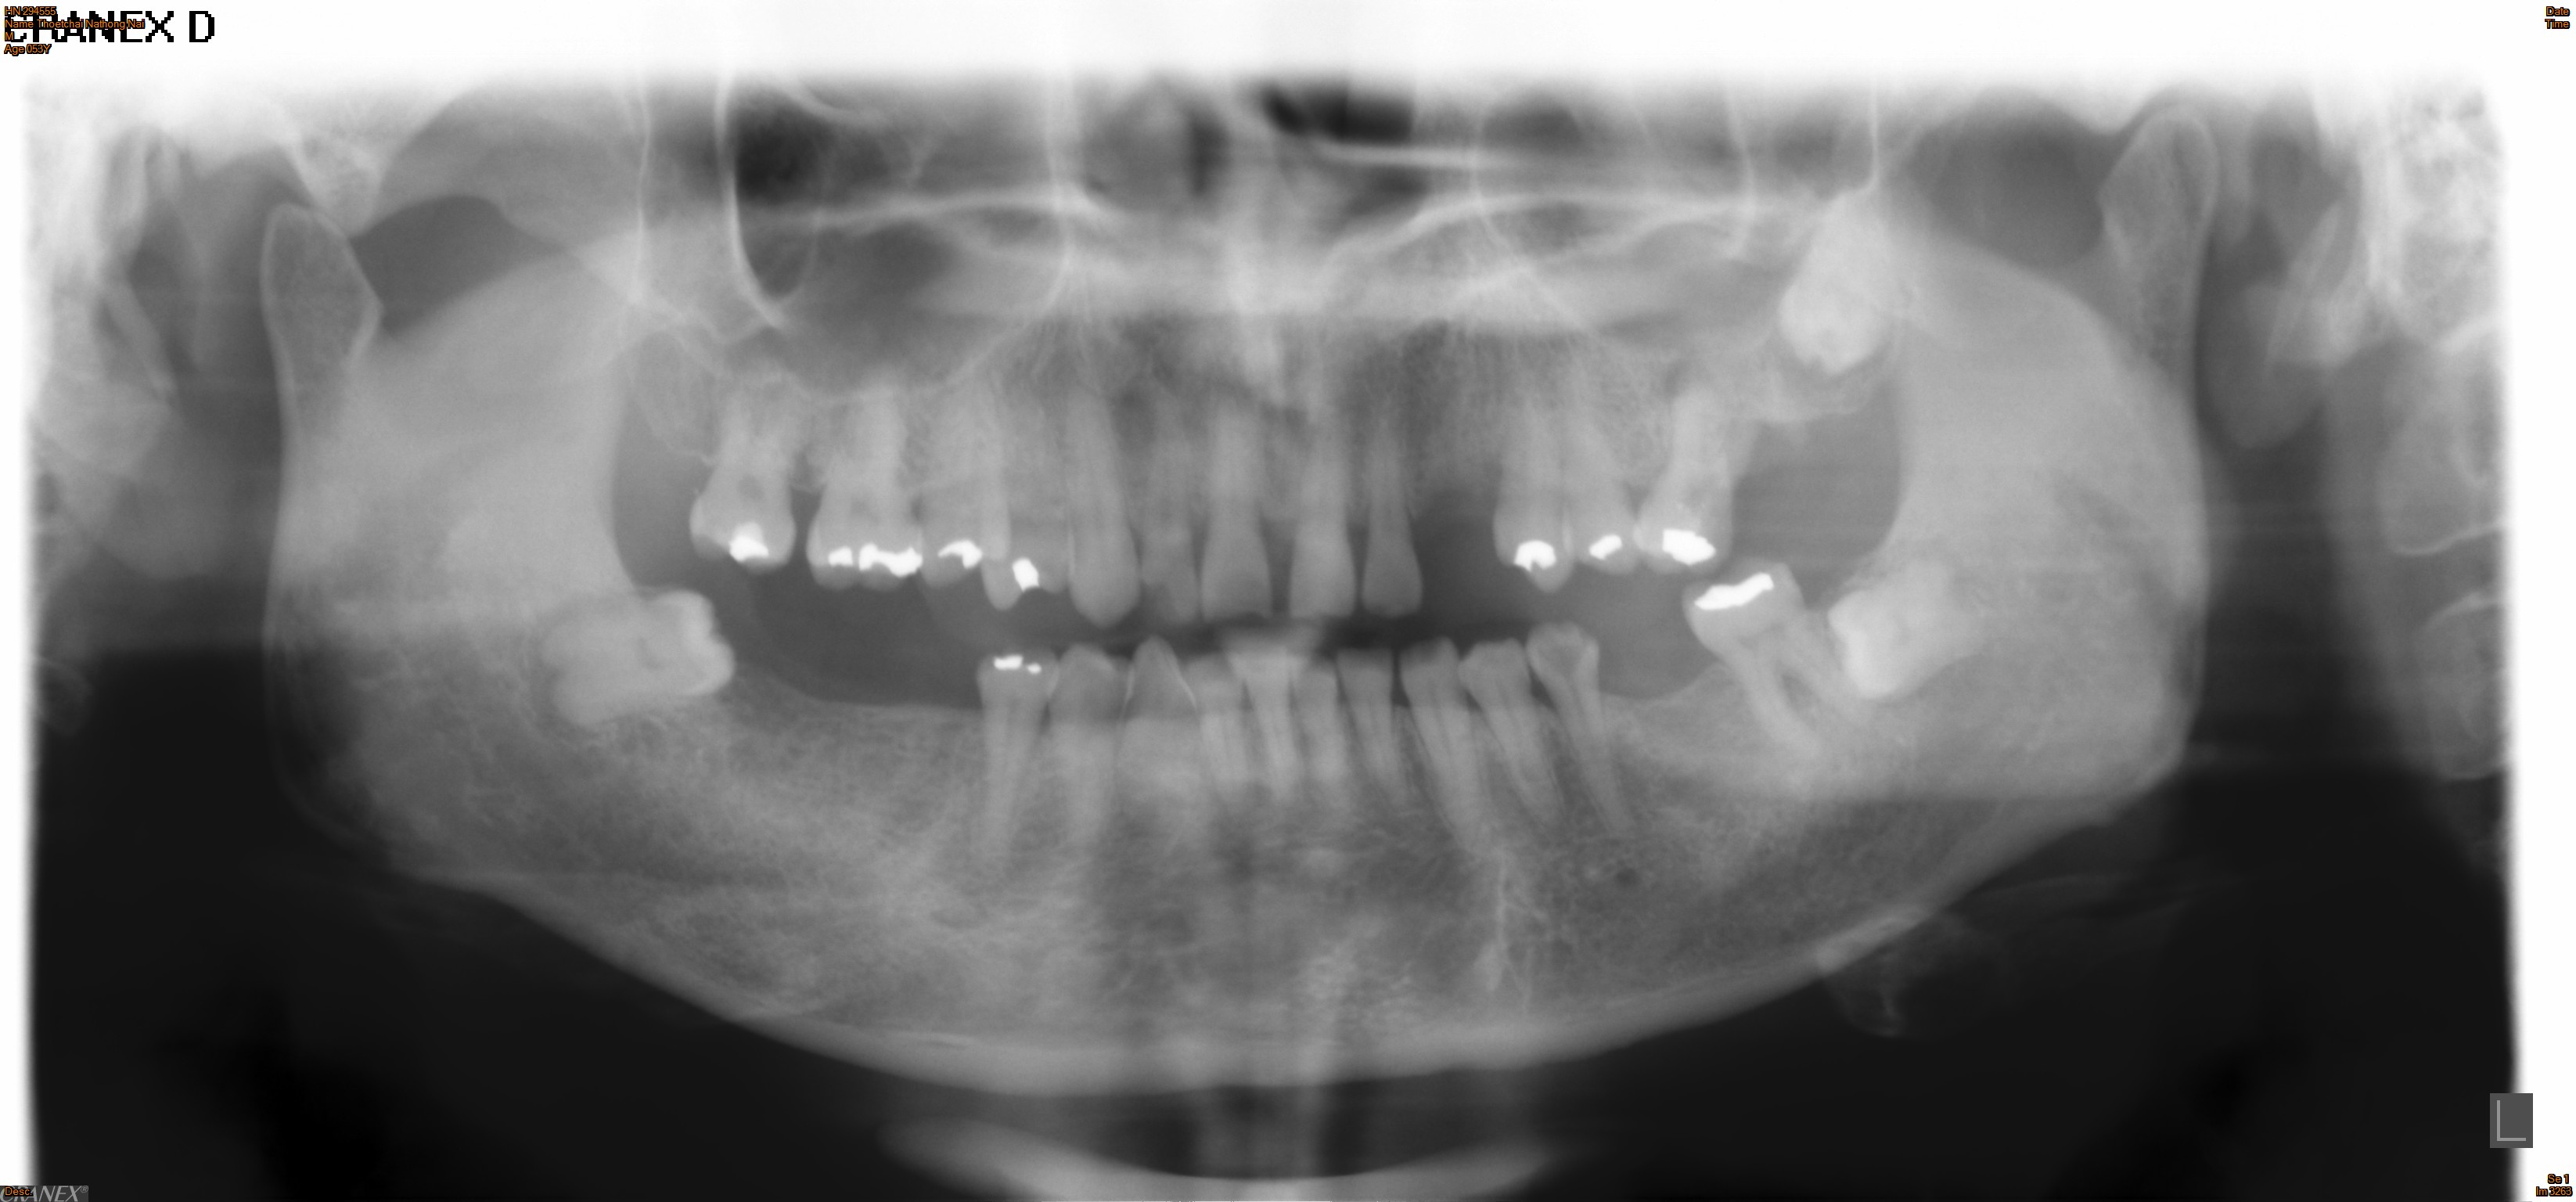periodontitis: (1676, 557, 1893, 783)
